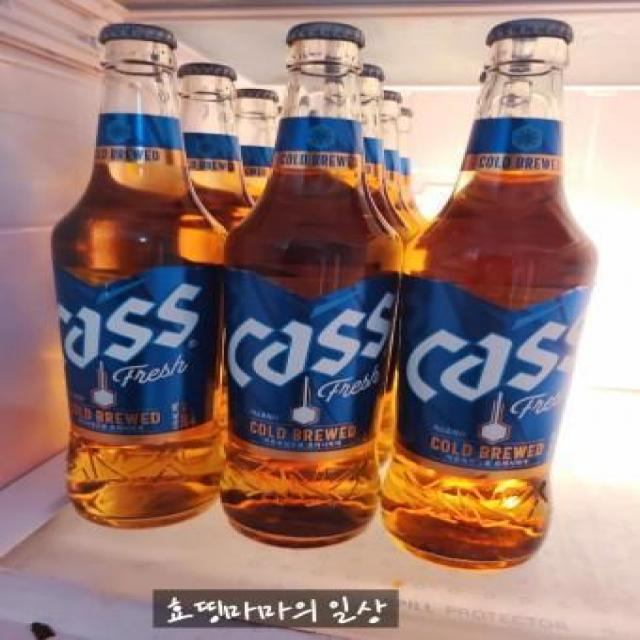beer-bottle: (376, 12, 608, 574), (45, 0, 228, 533), (216, 19, 394, 556), (353, 59, 443, 256), (172, 59, 262, 238), (230, 86, 286, 205)
